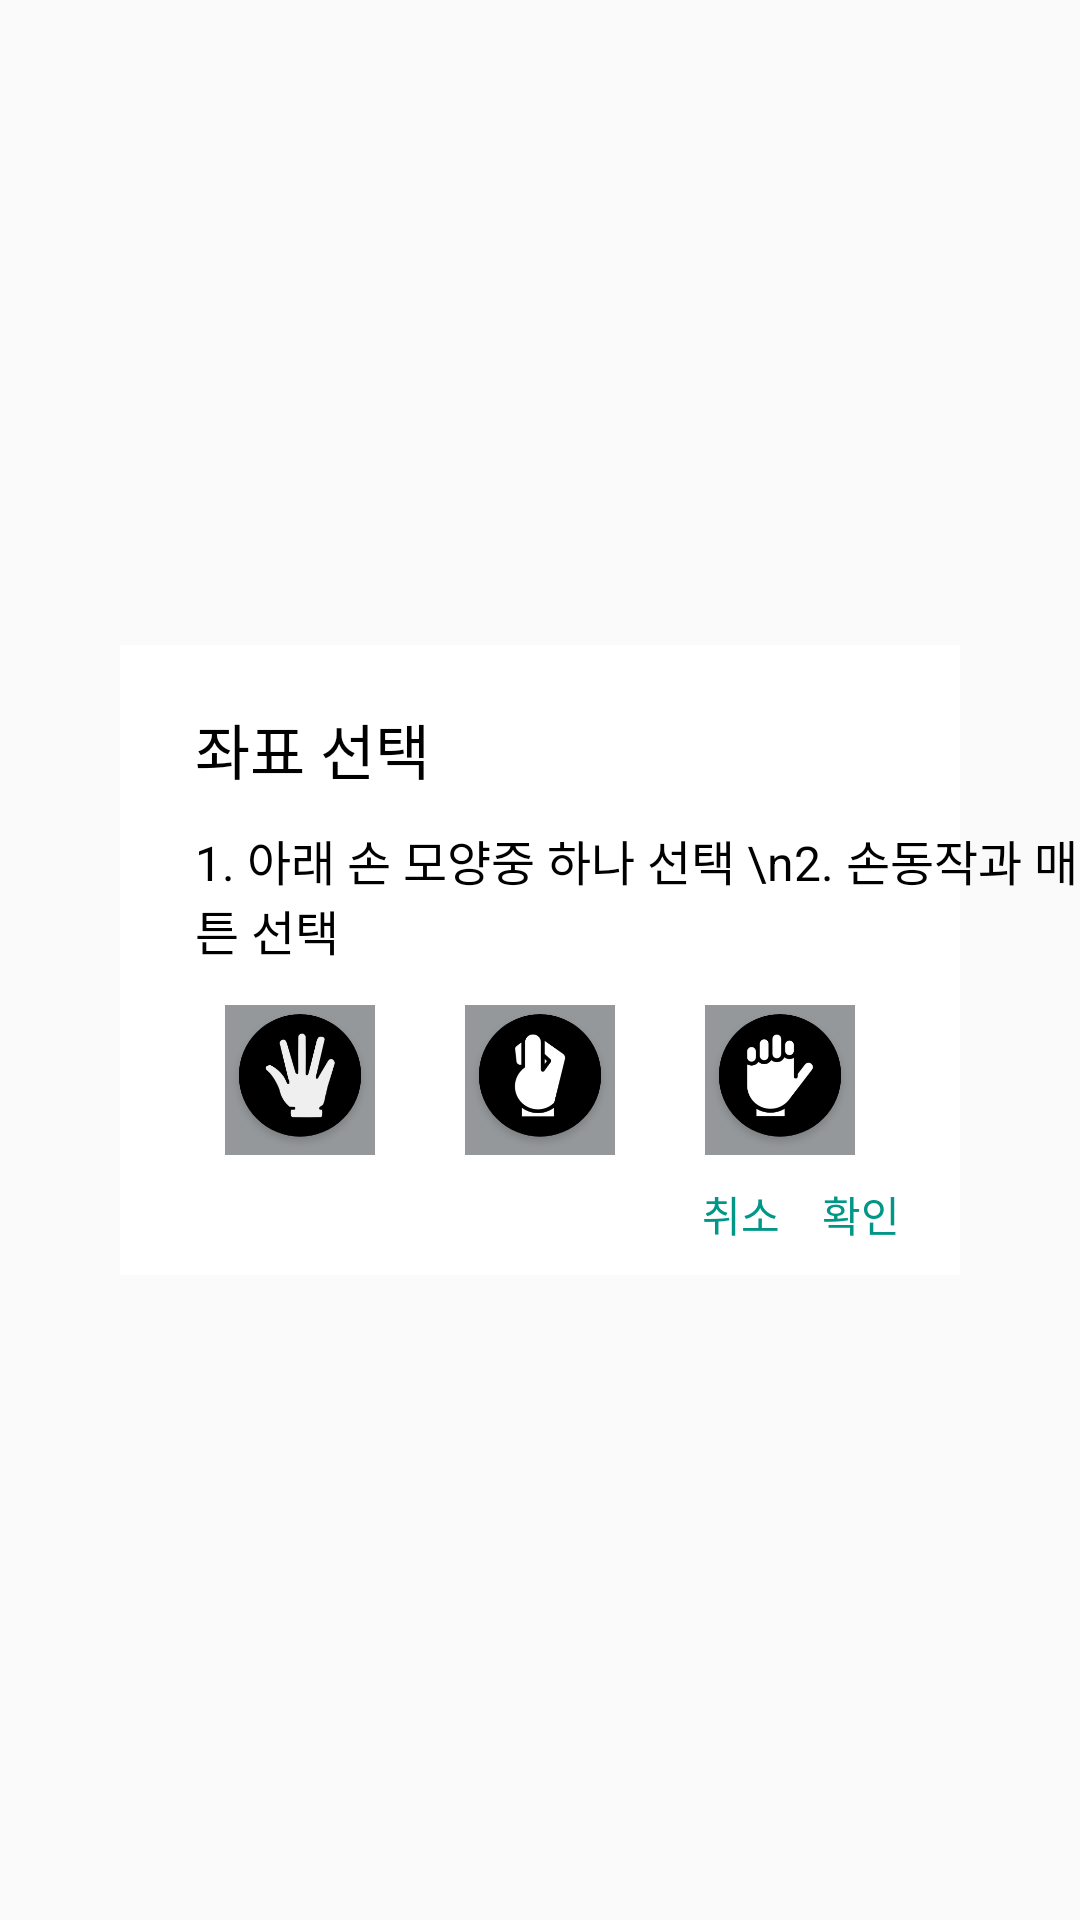

Named icons in this screenshot (1080 × 1920) and their bounding boxes, [left=x1, top=y1, right=x2, bottom=y2]:
hand open: [left=225, top=1005, right=375, bottom=1155]
